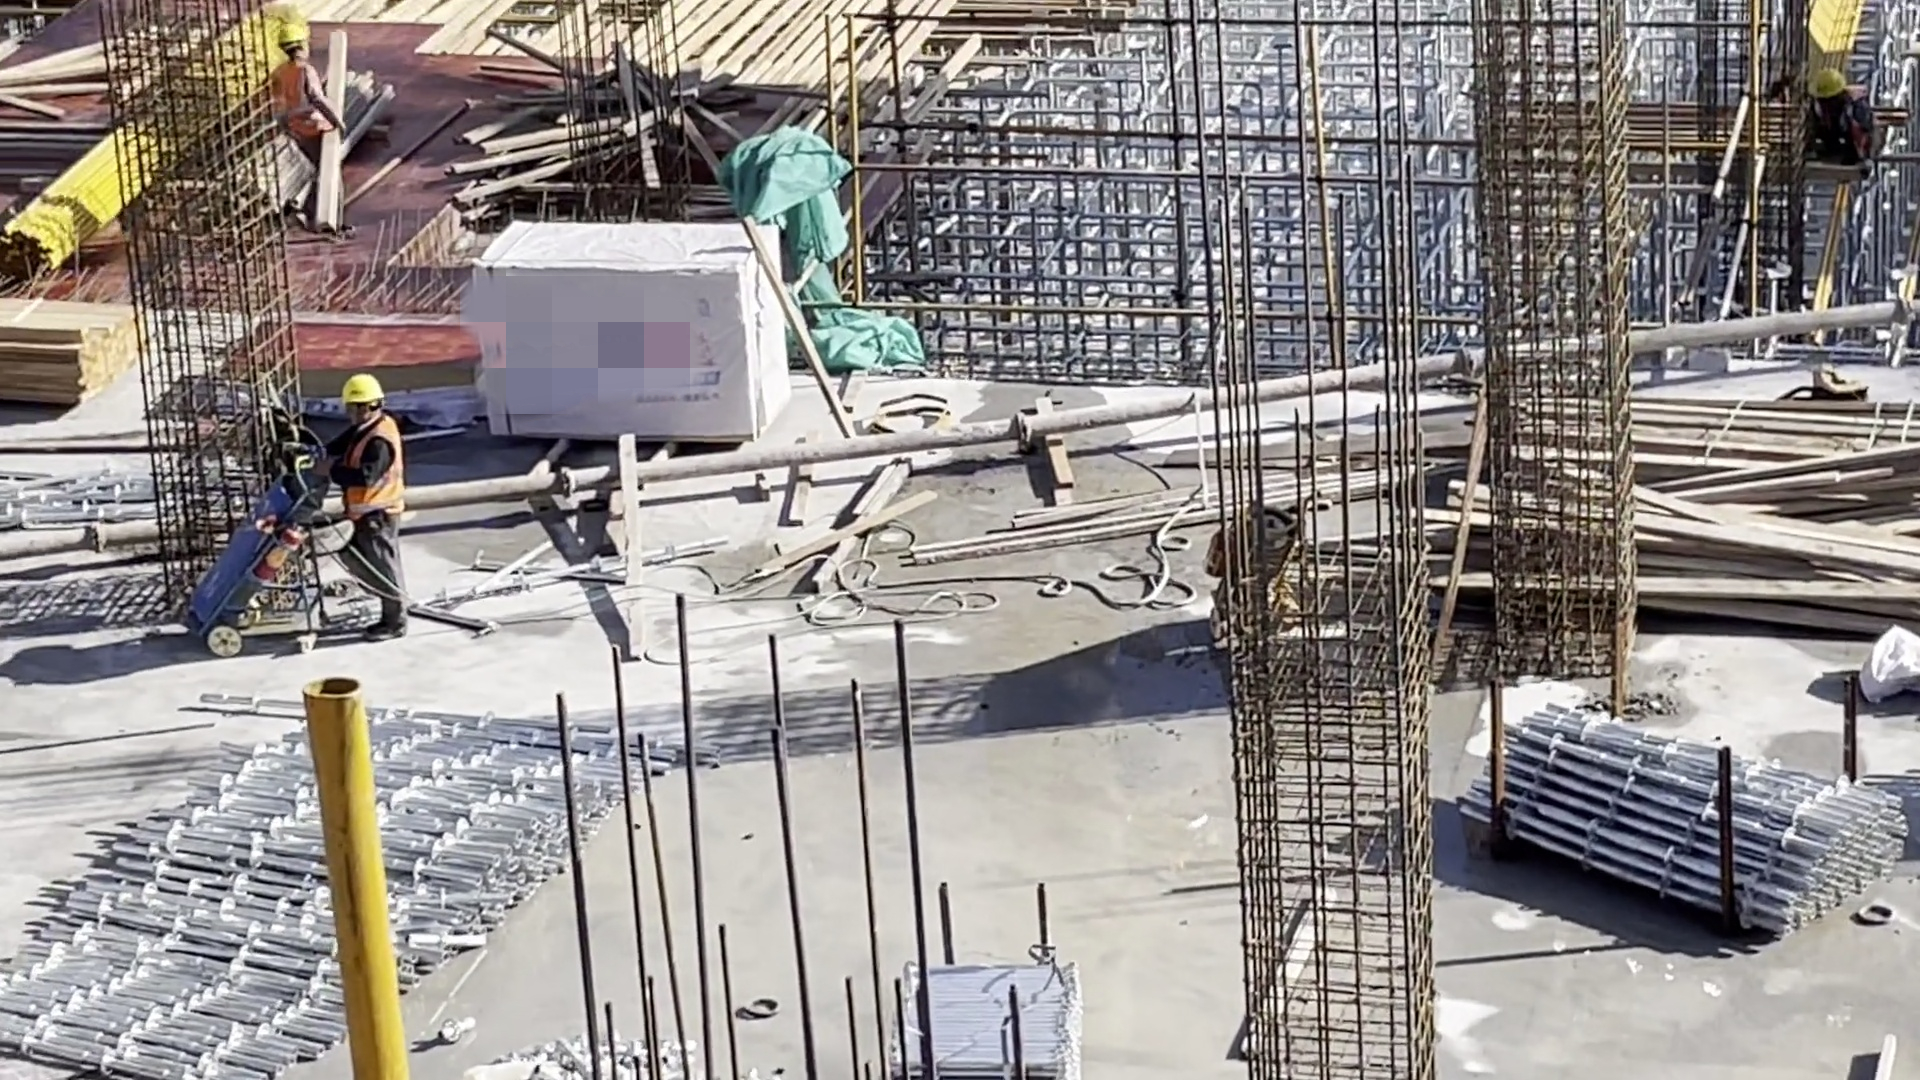helmet: (343, 375, 385, 408), (280, 24, 306, 47)
person: (332, 375, 411, 653), (270, 31, 349, 187)
scaffold: (6, 690, 723, 1080), (1455, 697, 1910, 937), (889, 960, 1083, 1080)
vest: (348, 420, 407, 519), (276, 60, 339, 138)
wood: (1439, 363, 1920, 652), (6, 305, 137, 405)
